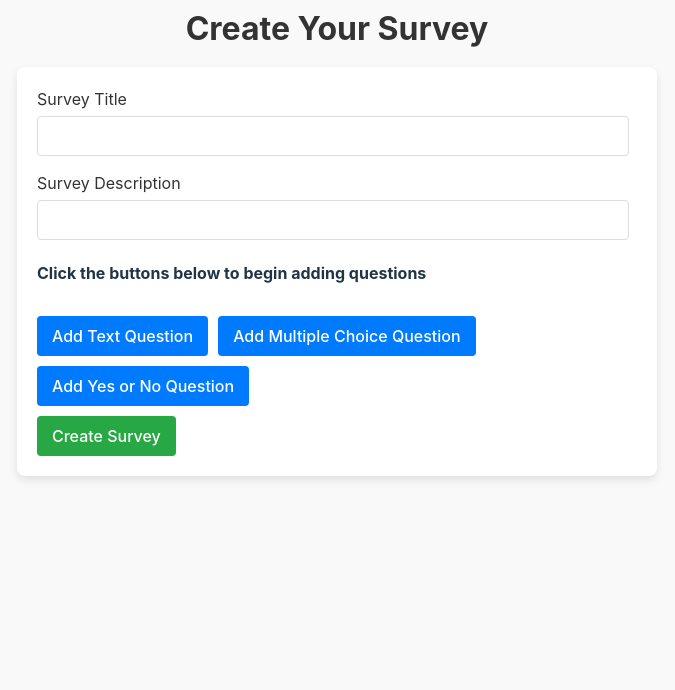
NewSurveyForm component › adds a single option to a multiple choice question
The width and height of the screenshot is (675, 690).
What coordinates should you click on to do the following:
click the button "Add Multiple Choice Question"
I would click on:
 (347, 336)
Its box is [218, 316, 476, 356].
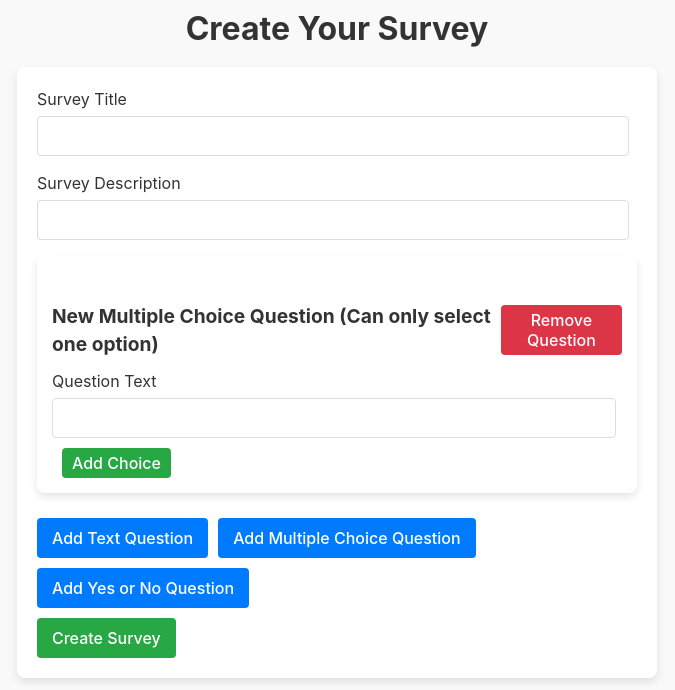
What coordinates should you click on to do the following:
click the button "Add Choice"
I would click on:
 (116, 463)
Its box is [62, 448, 171, 478].
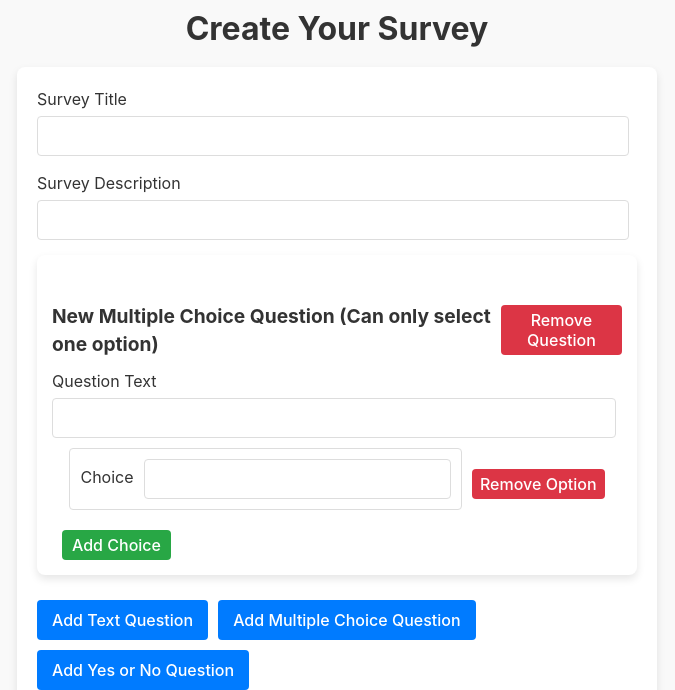
Expected: the text "Choice" is shown, [80, 465, 134, 489]
